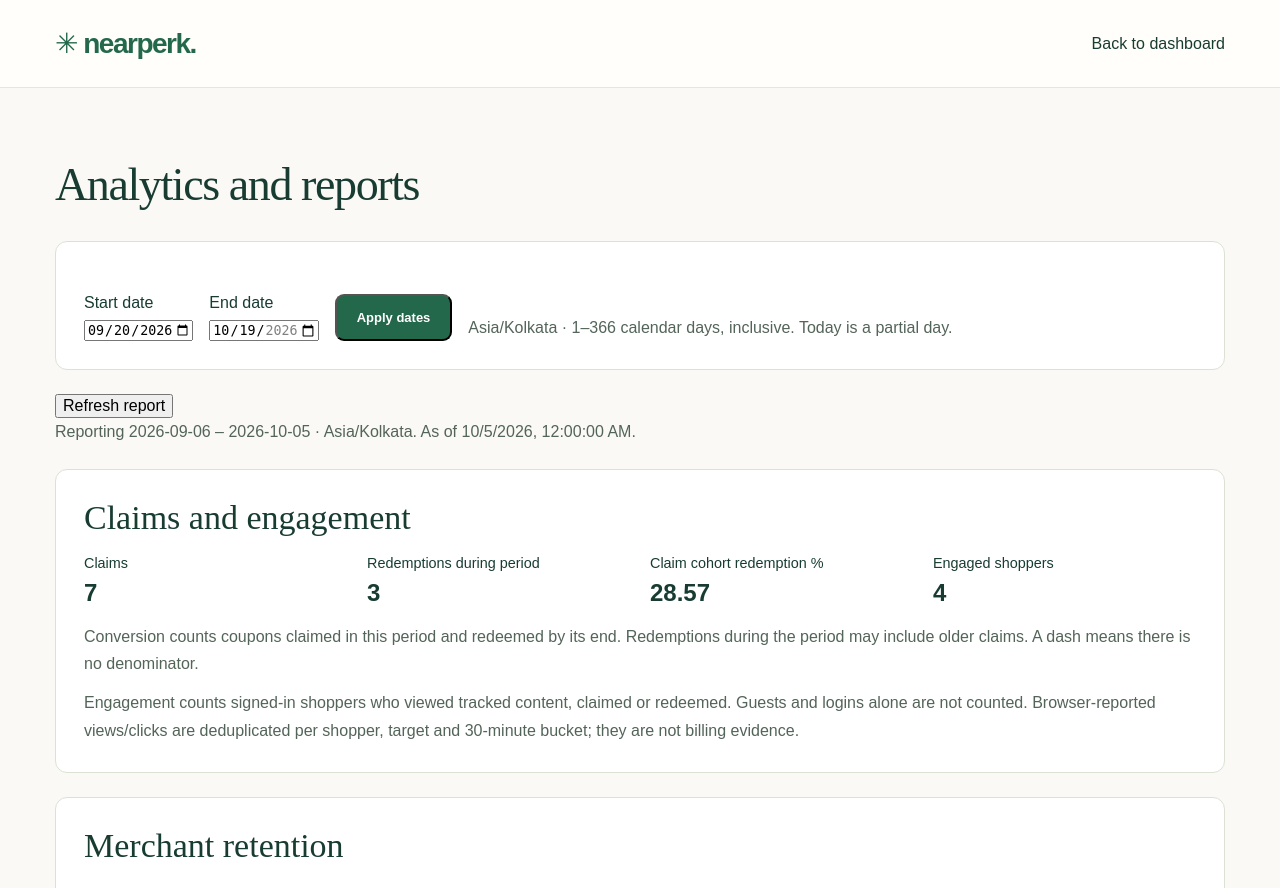
it: hides cached report after refresh failure
Click the button "Refresh report".
click(114, 406)  # box [55,394,173,418]
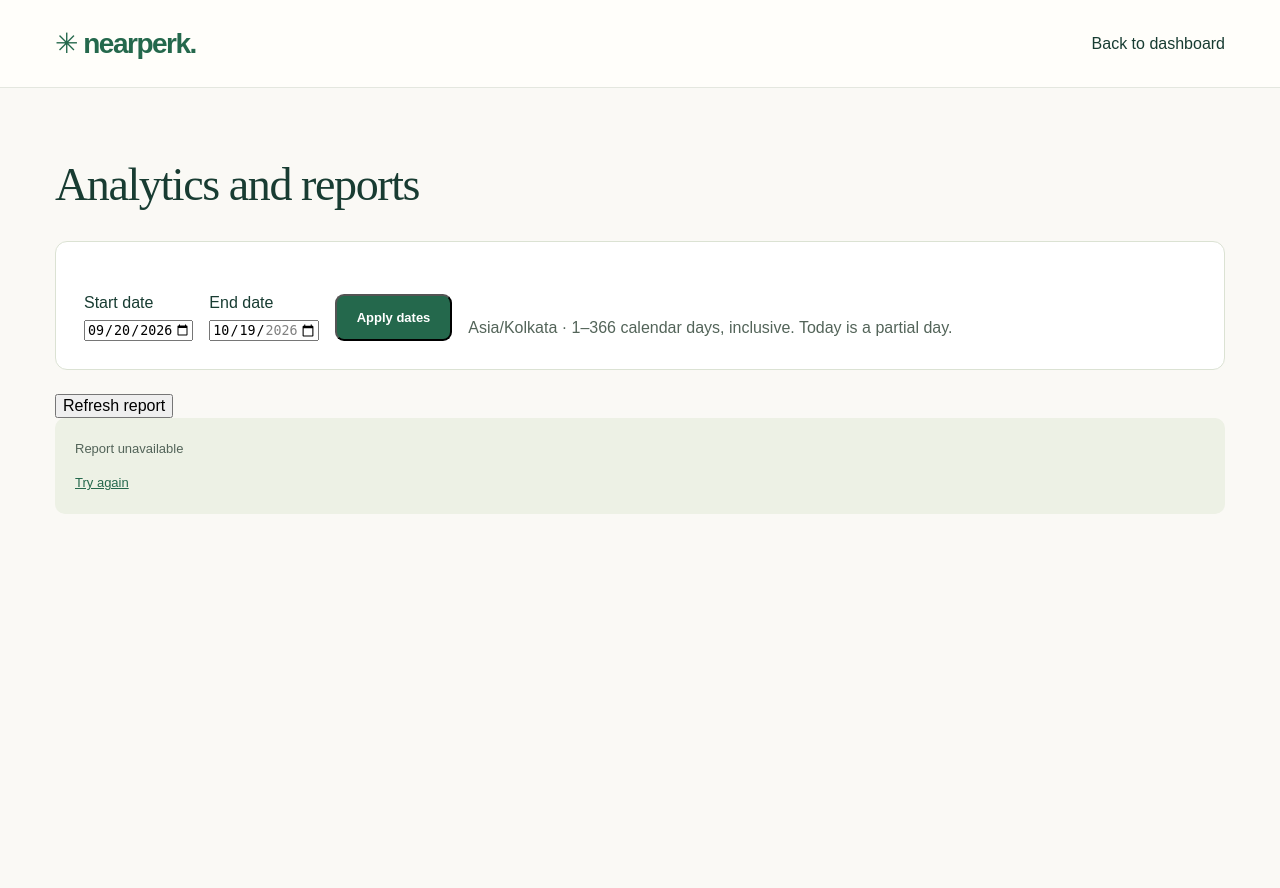
Check: the text "Report unavailable" is shown, box [75,441,183,456]
